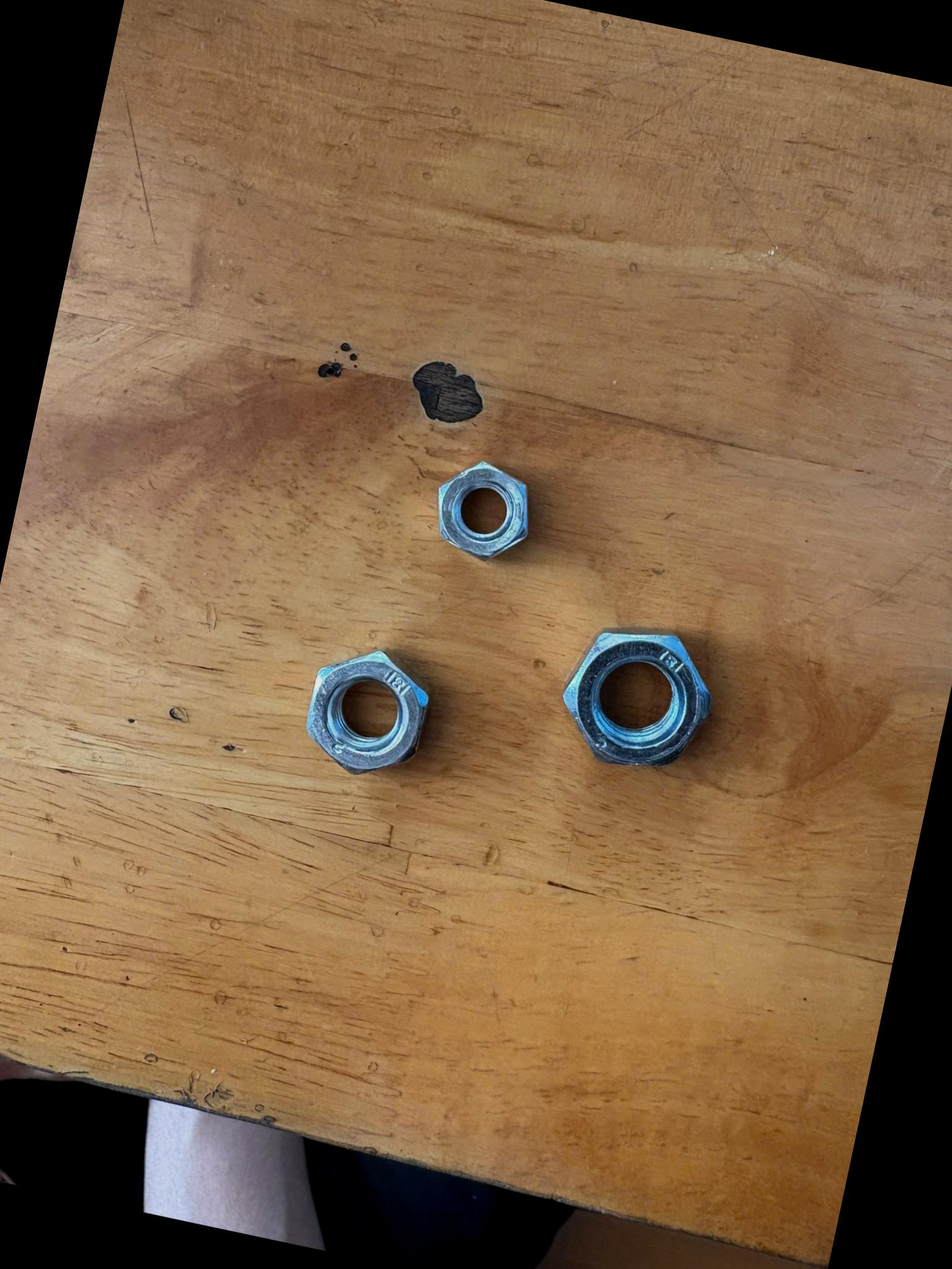nut: (543, 608, 740, 794), (415, 442, 552, 581)
